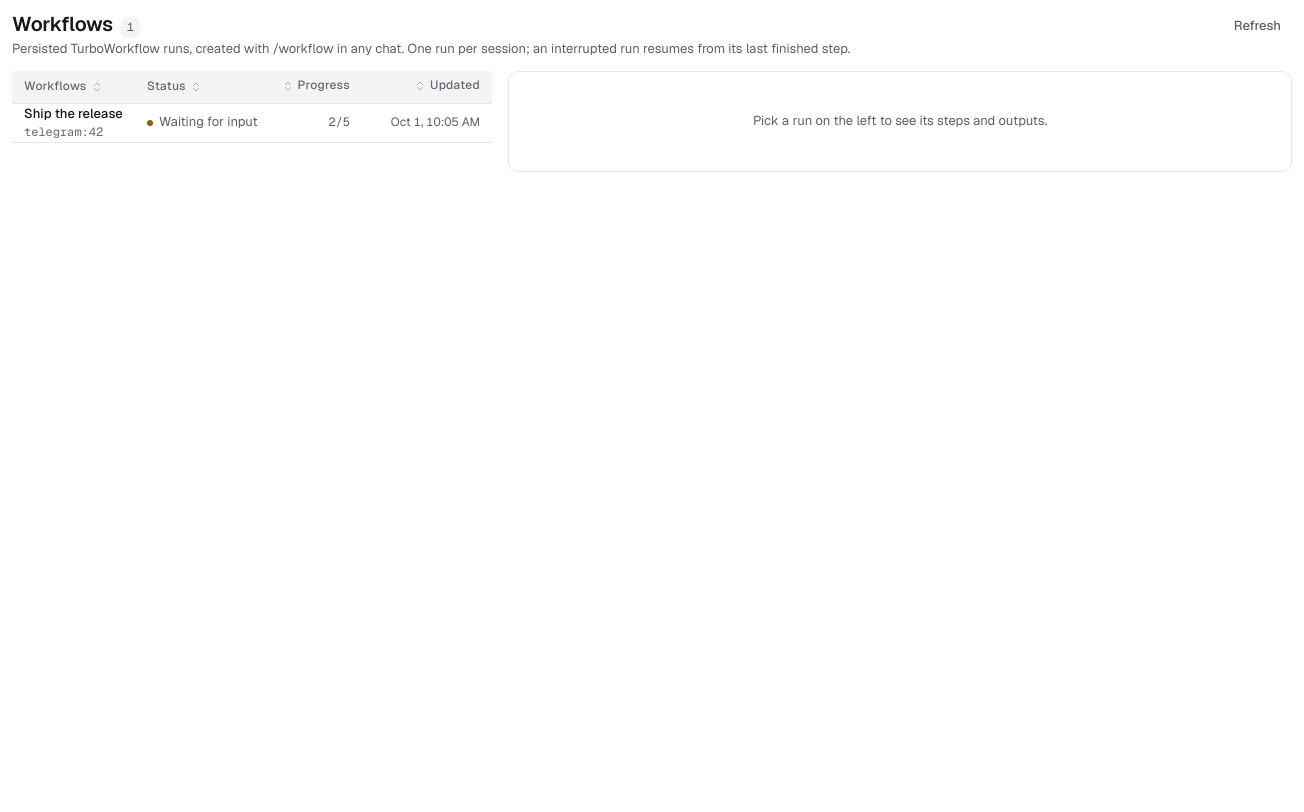
Workflows › opens a run and renders its steps with outputs
What coordinates should you click on to do the following:
click the text "Ship the release"
I would click on:
 (74, 114)
Its box is [24, 105, 123, 124].
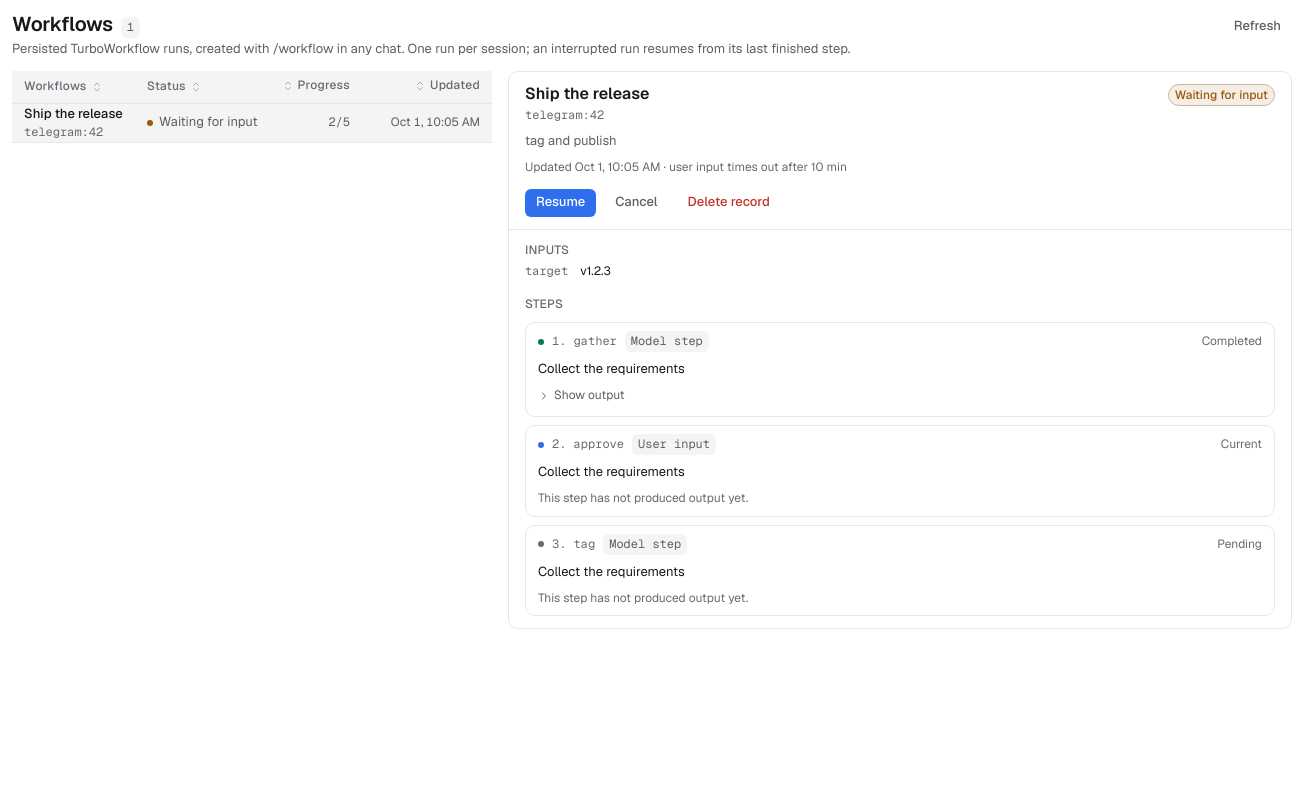
Check: the text "2. approve" is shown, box [552, 436, 624, 454]
Note: Completed steps keep their output collapsed until the reader asks for it.
What coordinates should you click on to do the following:
click the button "Show output"
I would click on:
 (581, 396)
Its box is [538, 387, 624, 405].
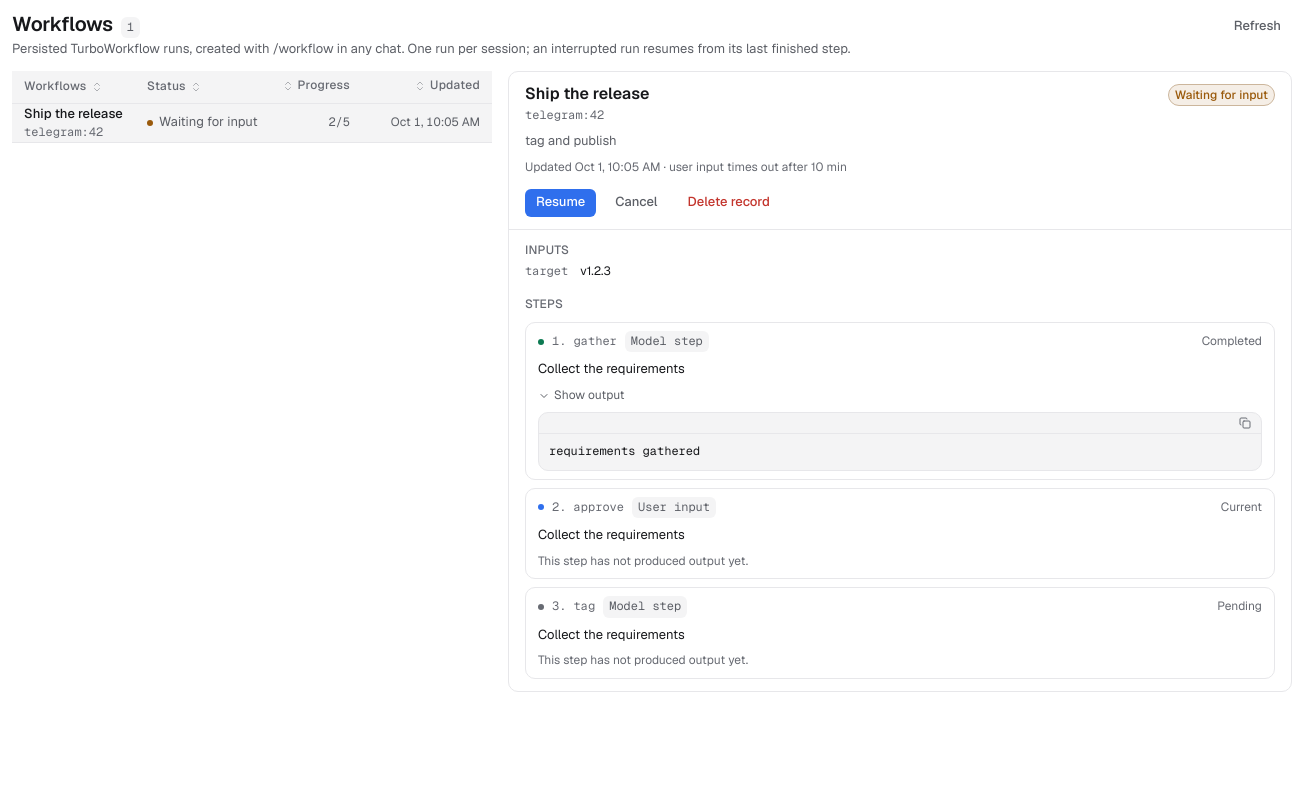
Check: the text "This step has not produced output yet." is shown 2 times, box [538, 553, 748, 569]; [538, 652, 748, 668]
Check: the text "target" is shown, box [525, 263, 568, 280]
Check: the text "requirements gathered" is shown, box [549, 443, 700, 459]
